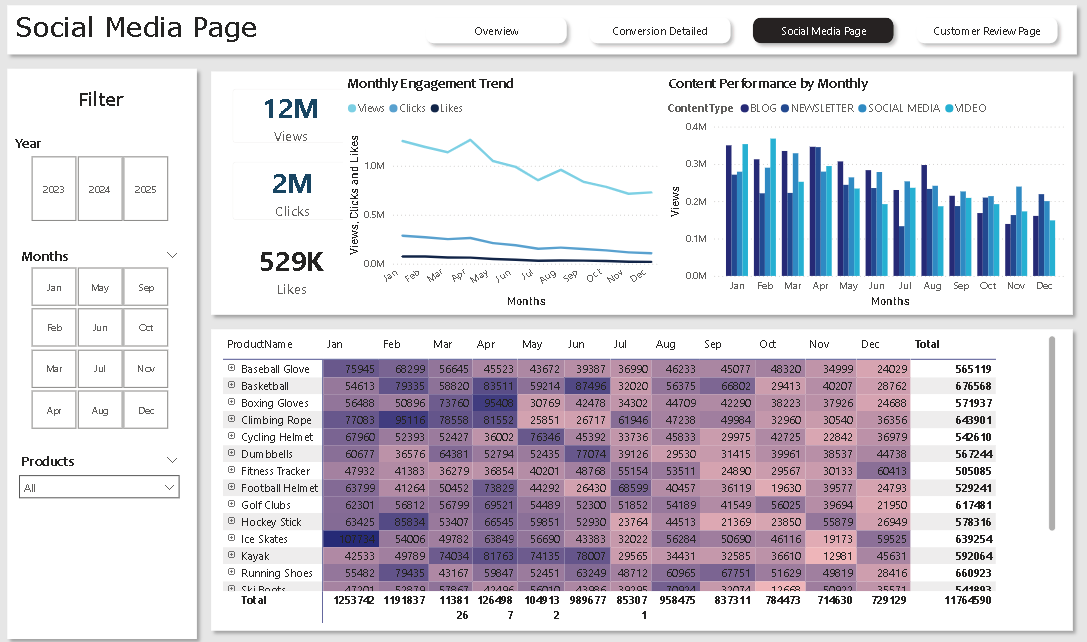

The dashboard page shown, as its layout file describes it:
{"tool":"powerbi","page":{"name":"Social Media Page","canvas":[1350,800],"ordinal":2},"visuals":[{"type":"shape","box":[0,0,1338.3,78.3],"z":0},{"type":"shape","box":[0,78,252,722],"z":1000},{"type":"shape","box":[251.7,81.7,1081.7,318.3],"z":2000},{"type":"shape","box":[251.7,400,1081.7,390],"z":3000},{"type":"clusteredColumnChart","title":"Content Performance by Monthly","fields":{"Category":["Calendar.MonthNameShort"],"Y":["_Calculation.Views"],"Series":["fact_engagement_data.ContentType"]},"box":[820,95,501.7,291.7],"z":4000},{"type":"pivotTable","fields":{"Rows":["dim_products.ProductName","fact_engagement_data.ContentType"],"Columns":["Calendar.MonthNameShort"],"Values":["_Calculation.Views"]},"box":[270,411.7,1038.3,365],"z":5000},{"type":"cardVisual","fields":{"Data":["_Calculation.Clicks"]},"box":[270,185,180,106.7],"z":6000},{"type":"cardVisual","fields":{"Data":["_Calculation.Views"]},"box":[270,95,176.7,101.7],"z":7000},{"type":"cardVisual","fields":{"Data":["_Calculation.Likes"]},"box":[270,283.3,180,103.3],"z":8000},{"type":"lineChart","title":"Monthly Engagement Trend","fields":{"Y":["_Calculation.Views","_Calculation.Clicks","_Calculation.Likes"],"Category":["Calendar.MonthNameShort"]},"box":[423.3,95,396.7,291.7],"z":9000},{"type":"pageNavigator","box":[516.7,15,800,50],"z":10000},{"type":"textbox","title":"Social Media Page","box":[13.3,15,436.7,50],"z":11000},{"type":"slicer","title":"Year","fields":{"Values":["Calendar.Year"]},"box":[13.3,168.3,218.3,113.3],"z":12000},{"type":"slicer","fields":{"Values":["Calendar.MonthNameShort"]},"box":[13.3,303.3,218.3,235],"z":13000},{"type":"slicer","fields":{"Values":["dim_products.ProductName"]},"box":[13.3,556.7,218.3,73.3],"z":14000},{"type":"textbox","title":"Filter","box":[46.7,108.3,155,38.3],"z":14001}]}

Visuals, with their boxes in screenshot pixels (x1, y1, x2, y2), scaled from the page's 1350x800 canvas onto the 1087x642 screenshot:
shape: <bbox>0, 0, 1078, 63</bbox>
shape: <bbox>0, 63, 203, 641</bbox>
shape: <bbox>203, 66, 1074, 321</bbox>
shape: <bbox>203, 321, 1074, 634</bbox>
"Content Performance by Monthly" clusteredColumnChart: <bbox>660, 76, 1064, 310</bbox>
pivotTable - dim_products.ProductName x fact_engagement_data.ContentType: <bbox>217, 330, 1053, 623</bbox>
cardVisual - _Calculation.Clicks: <bbox>217, 148, 362, 234</bbox>
cardVisual - _Calculation.Views: <bbox>217, 76, 360, 158</bbox>
cardVisual - _Calculation.Likes: <bbox>217, 227, 362, 310</bbox>
"Monthly Engagement Trend" lineChart: <bbox>341, 76, 660, 310</bbox>
pageNavigator: <bbox>416, 12, 1060, 52</bbox>
"Social Media Page" textbox: <bbox>11, 12, 362, 52</bbox>
"Year" slicer: <bbox>11, 135, 186, 226</bbox>
slicer - Calendar.MonthNameShort: <bbox>11, 243, 186, 432</bbox>
slicer - dim_products.ProductName: <bbox>11, 447, 186, 506</bbox>
"Filter" textbox: <bbox>38, 87, 162, 118</bbox>
